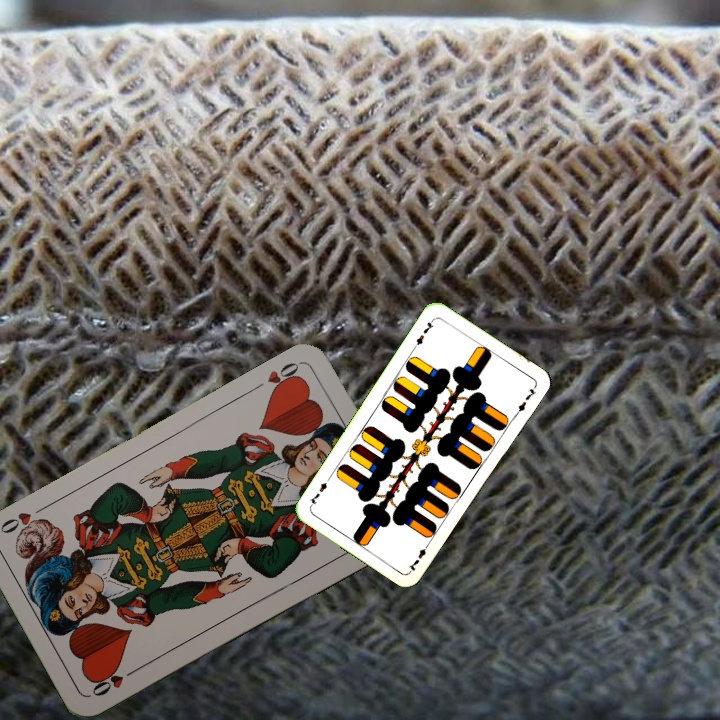E7: (404, 538, 433, 574), (410, 315, 437, 351)
HO: (88, 663, 141, 699), (263, 357, 304, 397)
